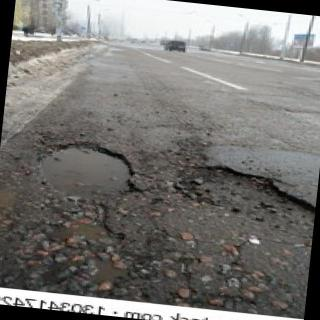pothole: (203, 166, 315, 226), (42, 145, 134, 193)
